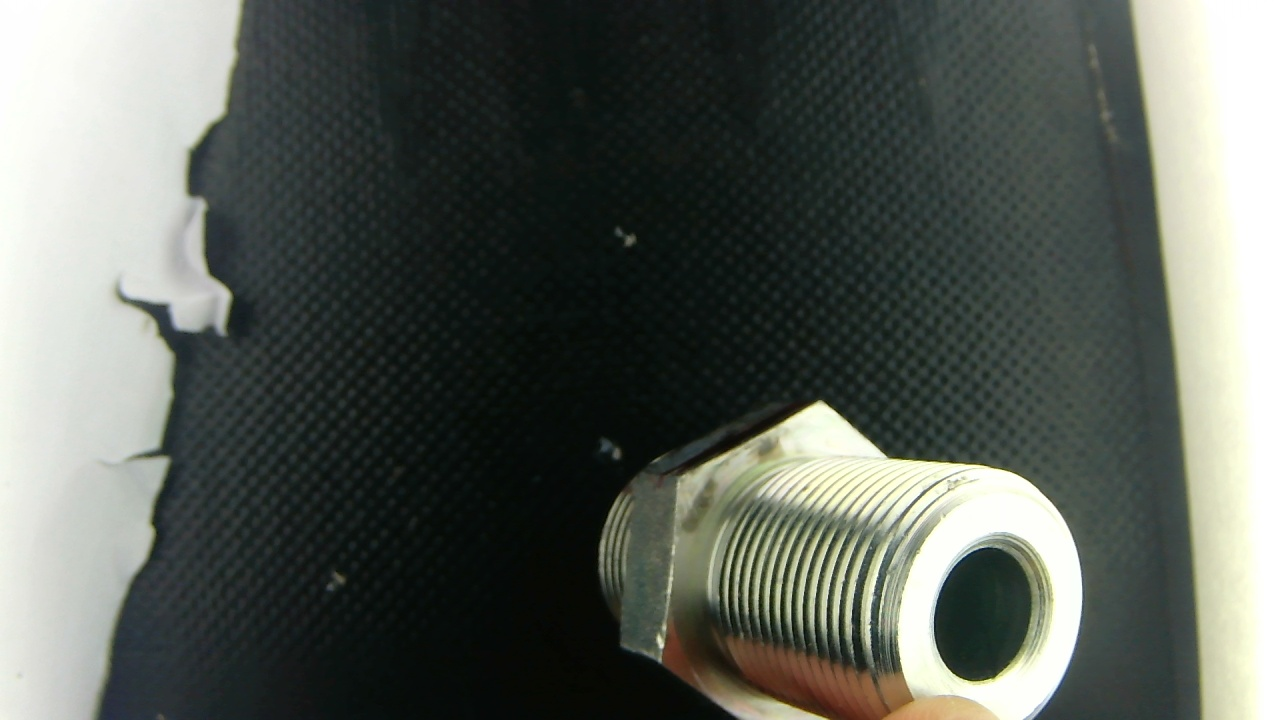blackpatch: (674, 433, 786, 535)
